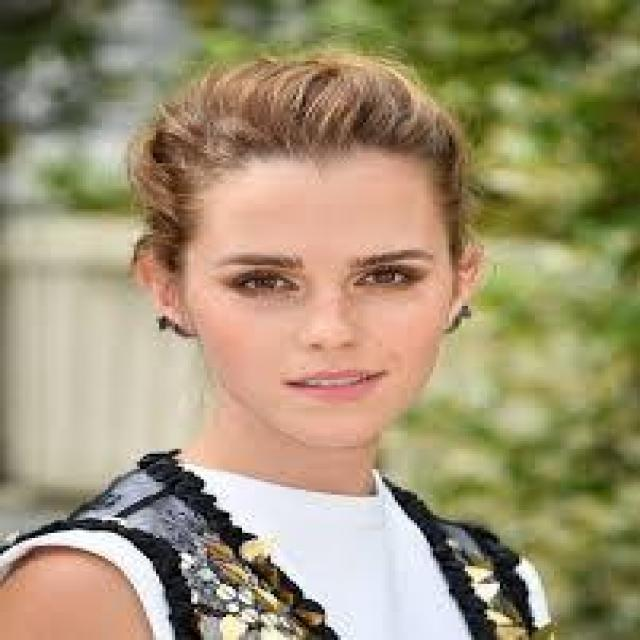person: (3, 48, 564, 635)
